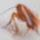cockroach: (14, 3, 36, 31)
